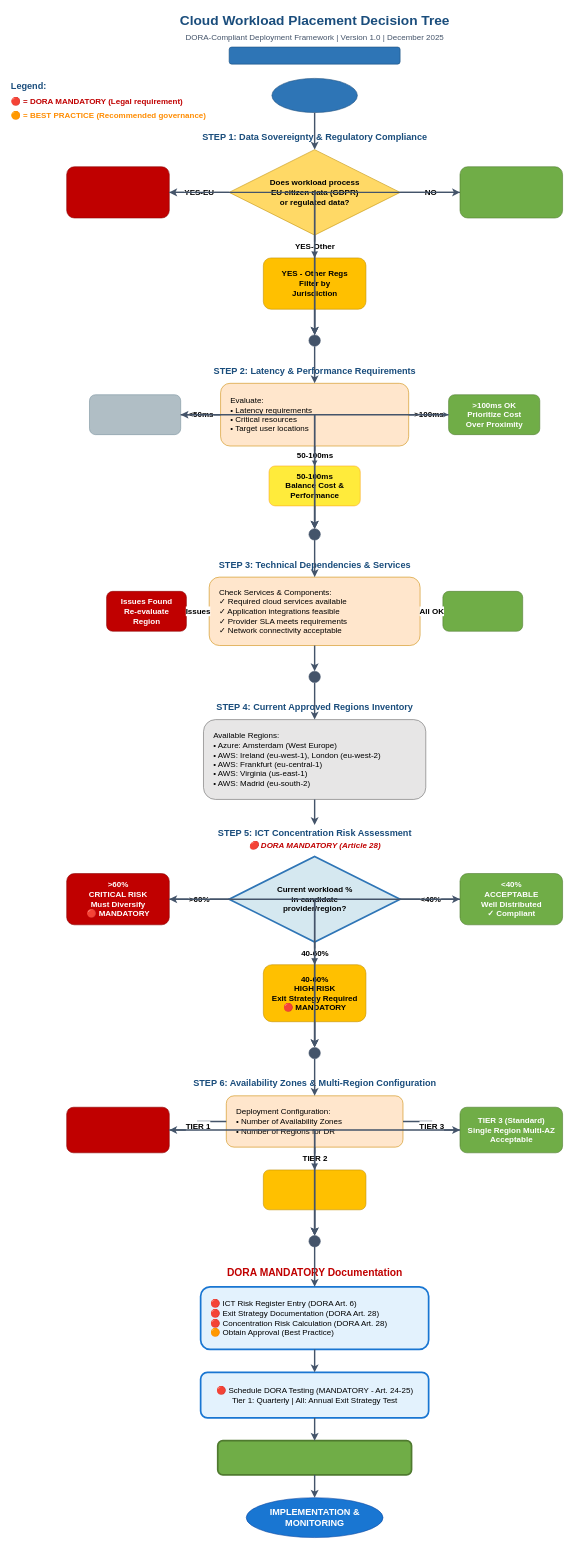
Some shapes in this 572 by 1548 pixel diagram are drawn without their labels. Each missing label, with the centre of its shape:
"<50ms Required Deploy Closest Region" goes at (135,414).
"All OK Proceed" goes at (482,611).
"NO Restrictions Global Deployment Possible" goes at (511,192).
"Simplified Implementation Guide" goes at (314,55).
"START" goes at (314,95).
"TIER 1 (Critical) Multi-AZ + Multi-Region (Active-Active)" goes at (117,1130).
"TIER 2 (High) Multi-AZ + DR Region" goes at (314,1189).
"YES - EU Data EU Regions Only (Frankfurt/Ireland/Madrid)" goes at (117,192).
"✓ DEPLOYMENT APPROVED" goes at (314,1457).
